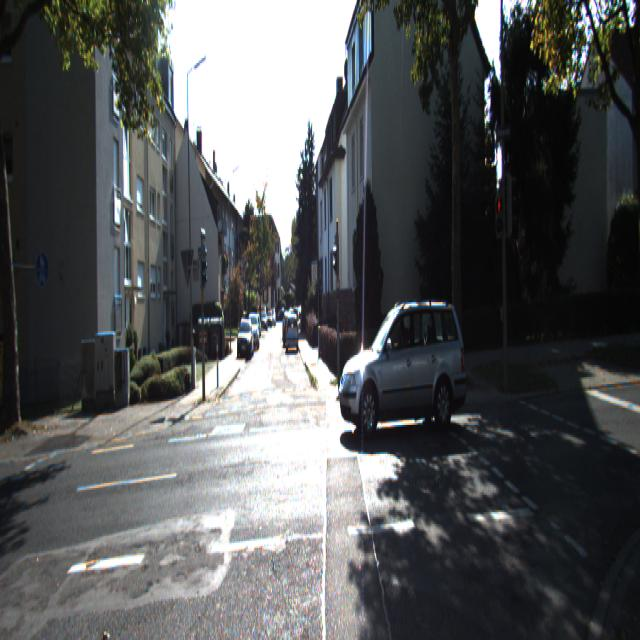Car: (337, 294, 469, 438), (236, 320, 254, 361), (284, 315, 298, 356)
